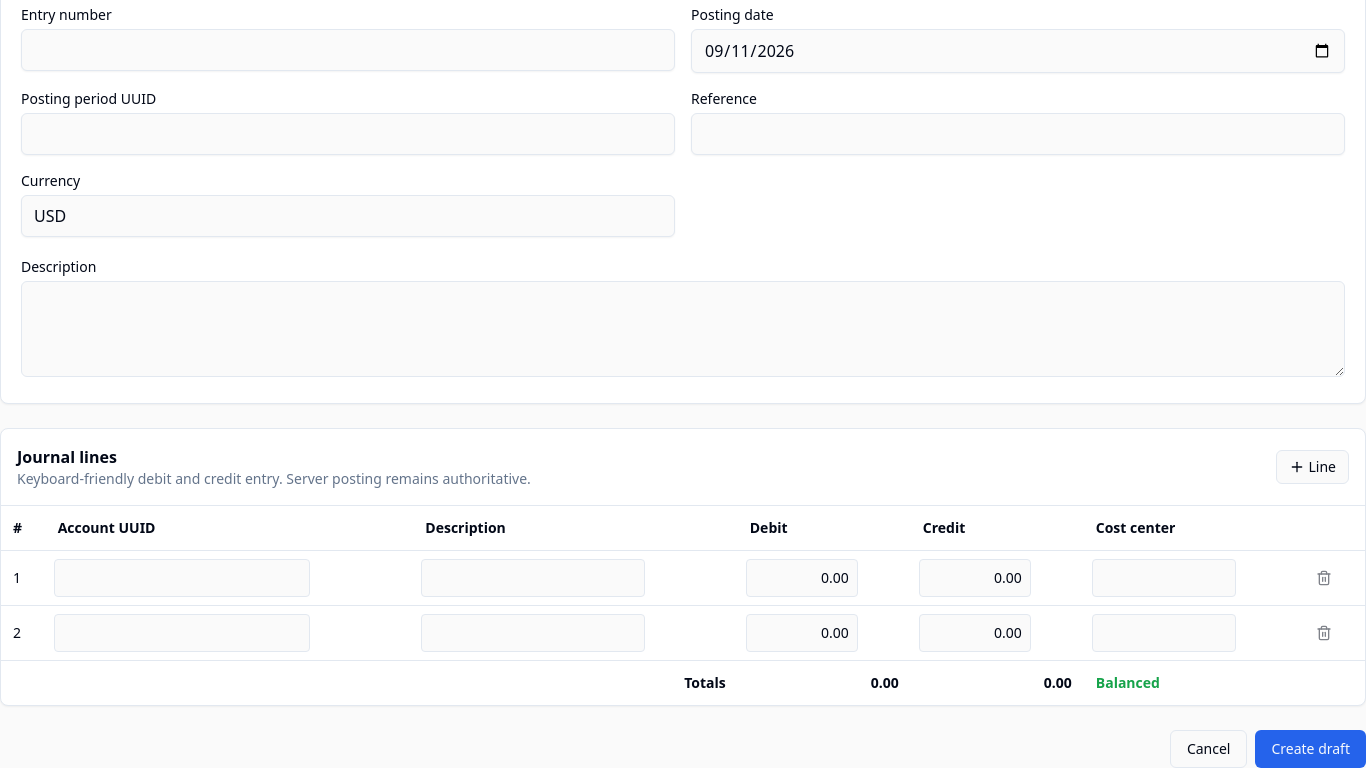
Test: accounting aggregate forms › shows governed journal validation when the submit button is clicked empty
This screenshot has width=1366, height=768.
(page scrolled)
Step 1. Click the button "Create draft" → click(1311, 749), box [1256,730,1365,767]
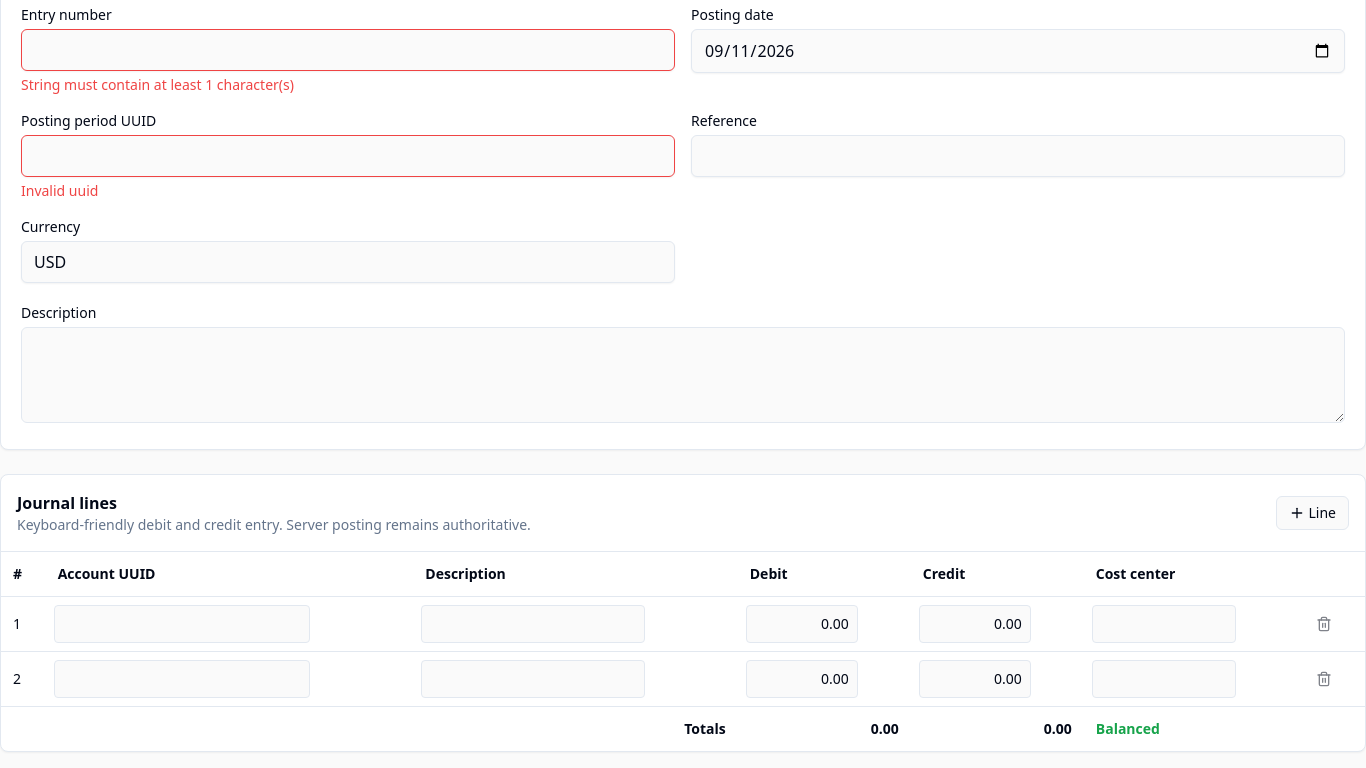
Expected: the text "String must contain at least 1 character(s)" is shown, [21,75,294,94]
